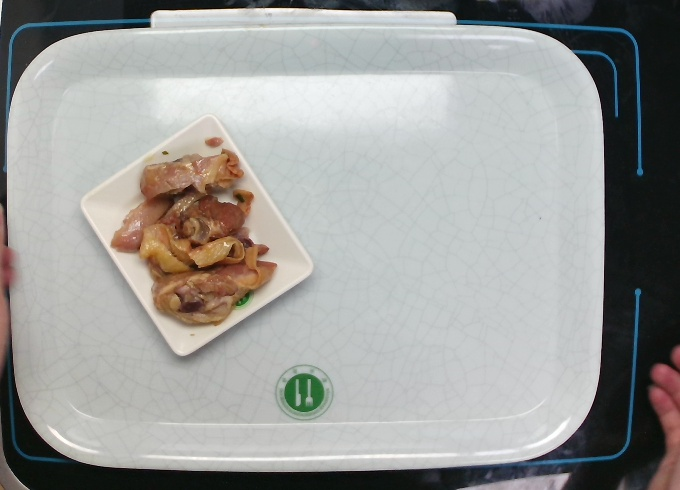WCQzf-Bai_Se_Si_Fang_Die: (76, 110, 315, 357)
